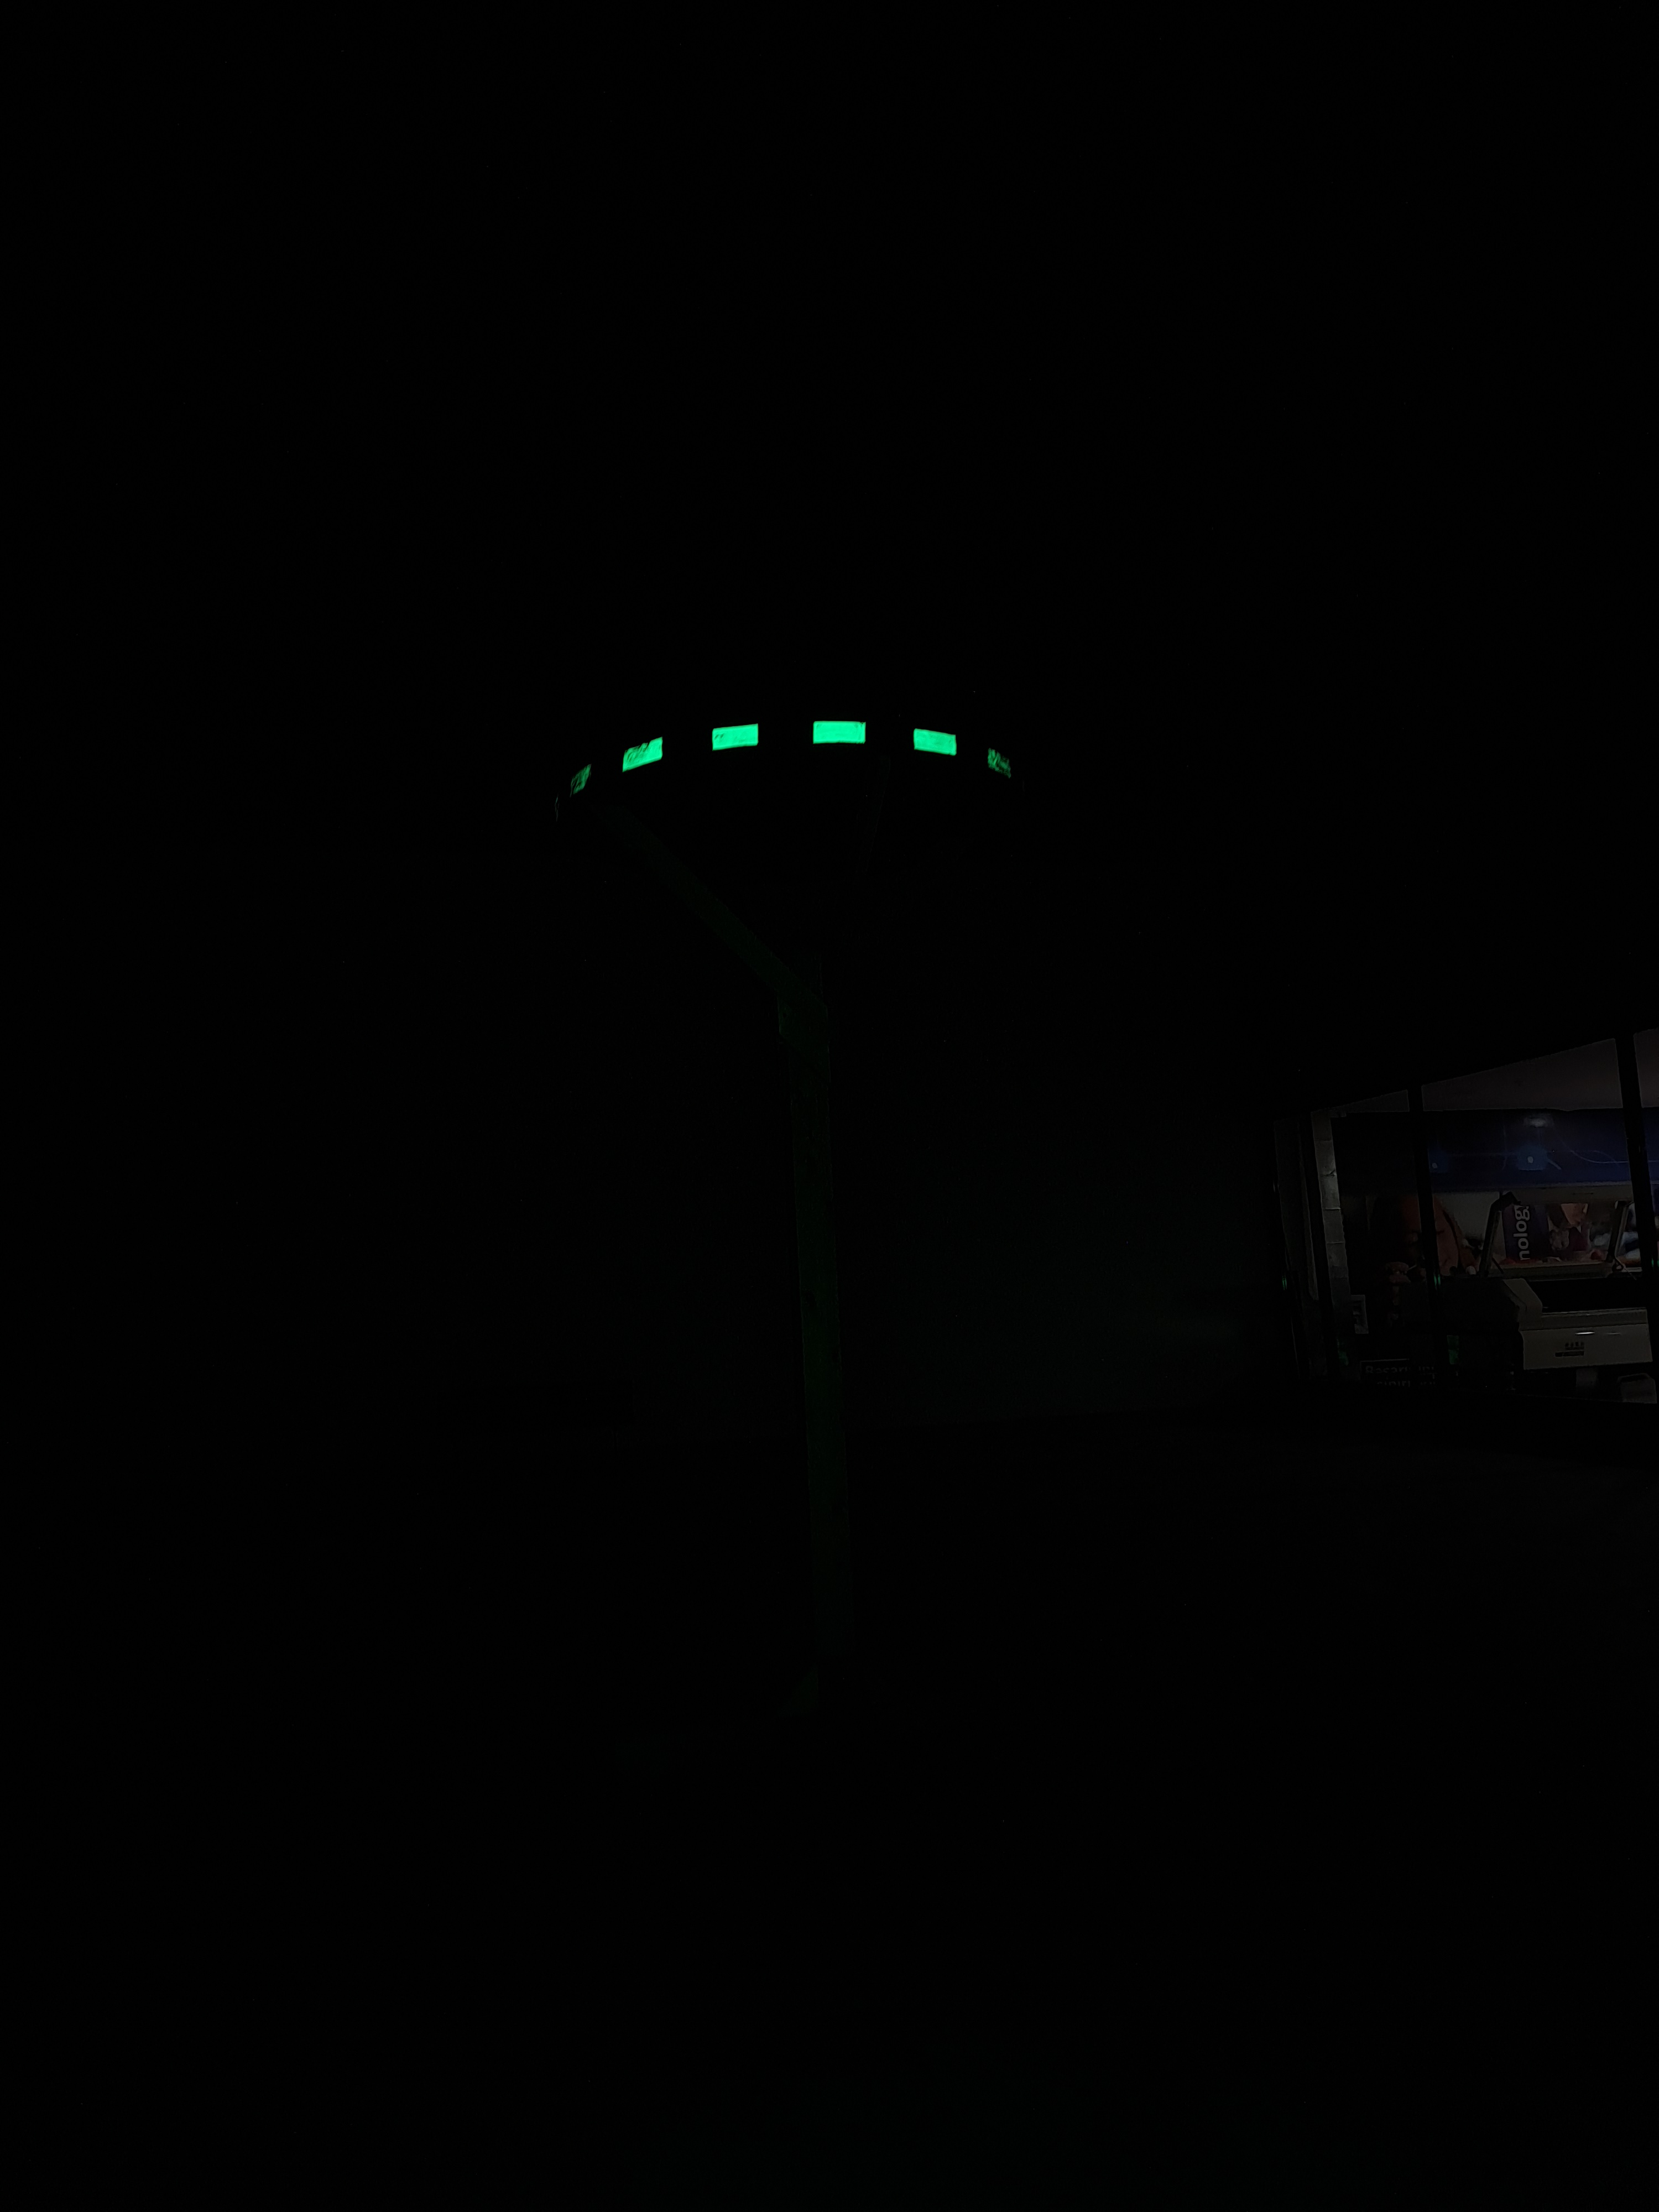hoop: (530, 702, 1032, 801)
